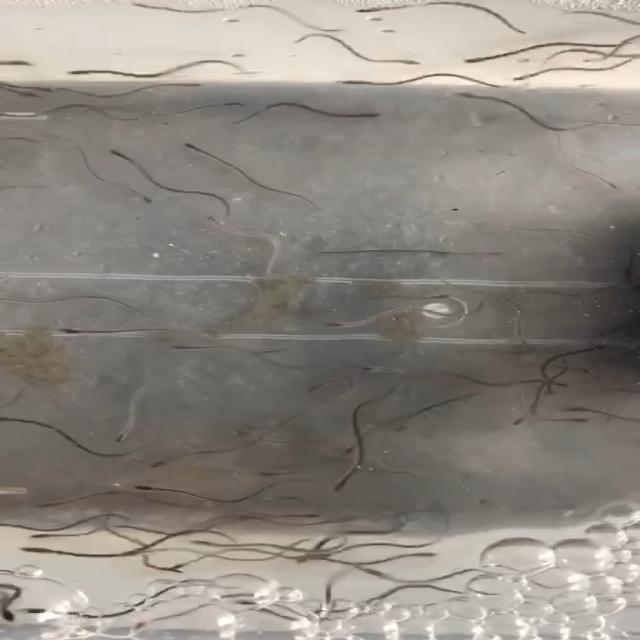active_glass_eel: (121, 186, 160, 208), (198, 212, 236, 234), (346, 2, 399, 17), (141, 454, 185, 472), (351, 361, 400, 377), (464, 50, 503, 70), (182, 138, 221, 158), (356, 104, 398, 122), (254, 467, 301, 483), (371, 53, 420, 68), (334, 75, 386, 89), (0, 600, 29, 625), (325, 315, 365, 333), (26, 531, 74, 546), (129, 613, 169, 631), (18, 545, 76, 557), (507, 68, 550, 84), (323, 474, 357, 494), (60, 323, 102, 339), (130, 478, 172, 494), (115, 0, 164, 13), (442, 89, 491, 102), (371, 554, 441, 563), (113, 421, 138, 446), (159, 339, 198, 355), (165, 76, 208, 90), (202, 97, 248, 110), (295, 380, 337, 394), (22, 606, 71, 618), (52, 66, 100, 78), (142, 560, 186, 573), (189, 537, 232, 550), (10, 90, 49, 104), (173, 557, 206, 573), (228, 426, 260, 442), (101, 148, 137, 162), (560, 401, 604, 411), (25, 82, 61, 94), (509, 410, 531, 427), (558, 419, 594, 429), (9, 60, 34, 70)
